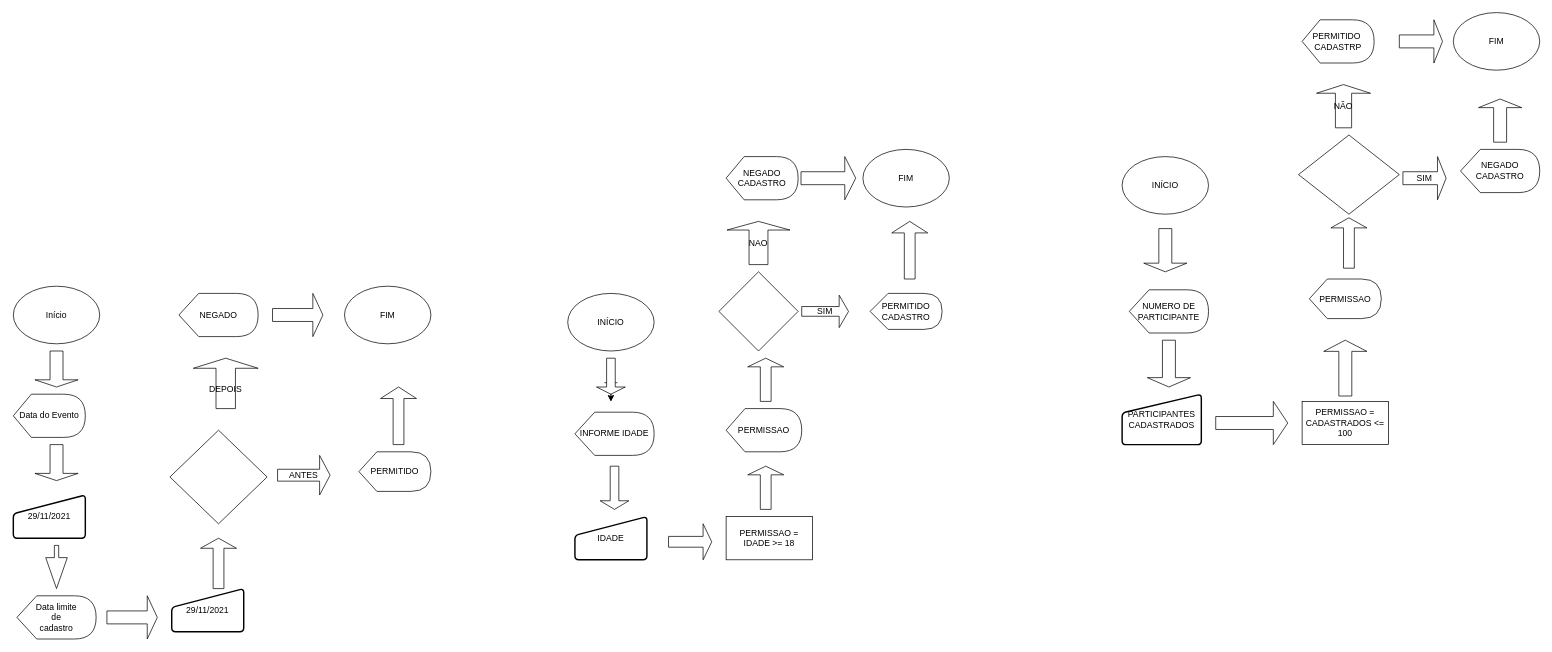
Image size: 1552x652. Some labels were removed from this diagram. The box of each missing label's shape, as (x1, y1, x2, y2) in pixels:
+ DE 100 PARTICIPANTES?: (1298, 134, 1399, 214)
Antes 29/11/2021? Depois 29/11/2021?: (169, 429, 267, 524)
MAIOR DE 18? MENOR DE 18?: (718, 271, 798, 351)
